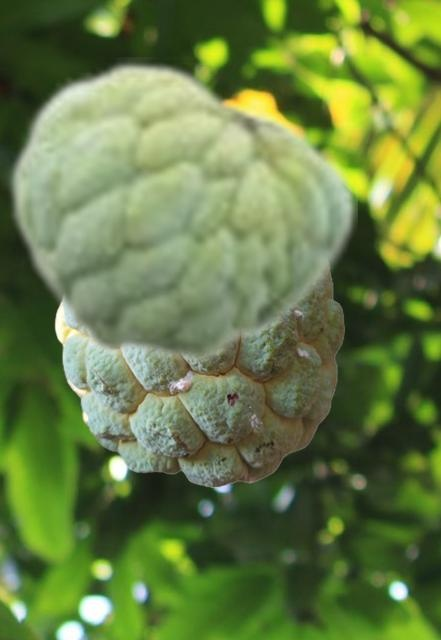atis: (6, 57, 356, 367), (54, 275, 343, 486)
